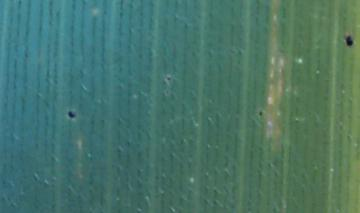tarspot: (344, 35, 354, 47), (66, 110, 76, 119), (165, 75, 171, 81), (257, 110, 263, 116)
